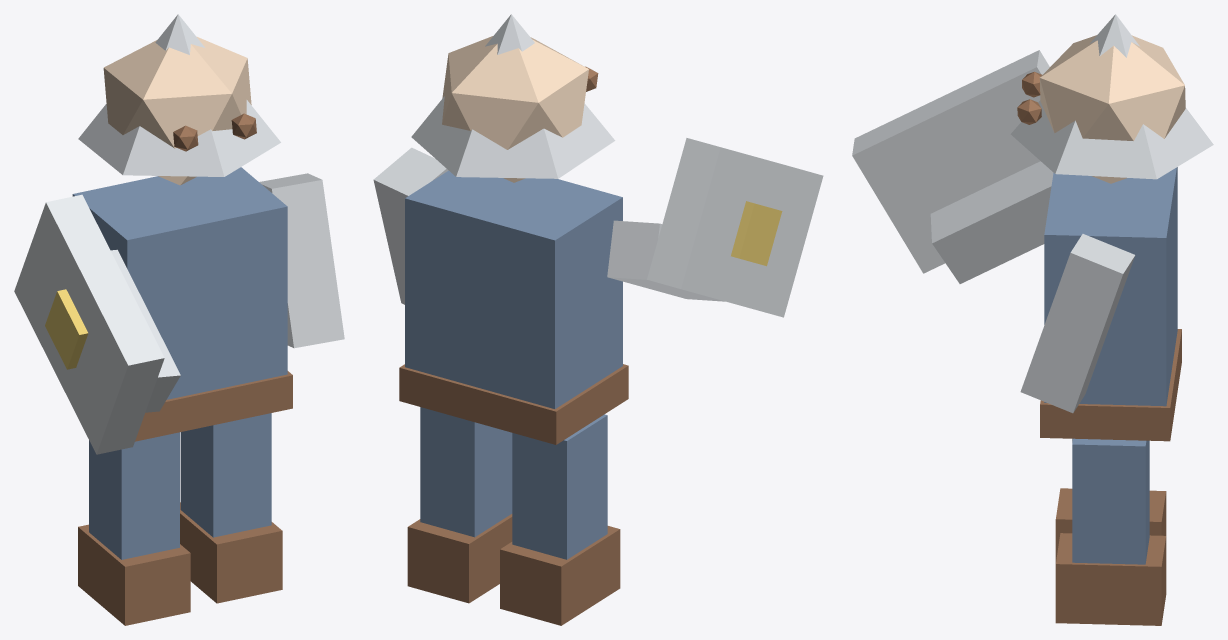
File: npcpose_guard_idle_11.glb
3 renders of one model, left to right at view 1: azimuth 30°, elevation 25°; view 2: azimuth 150°, elevation 25°; view 3: azimuth 270°, elevation 25°, orthographic.
Parts seen in each view (by area): view 1: npcpose; view 2: npcpose; view 3: npcpose.
Boxes of the visible parts, x1,y1,x2,y2 form: npcpose: (14,14,344,625); npcpose: (373,14,823,625); npcpose: (852,14,1213,625).
Size of the model in its own units: 0.9006 by 1.55 by 0.8871.
